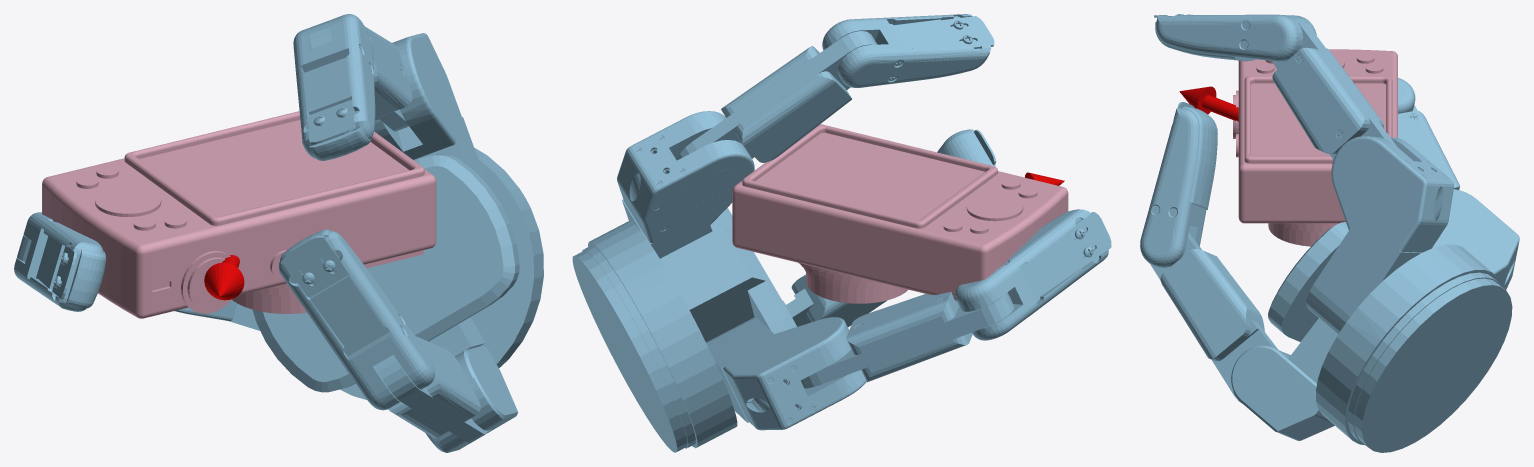
3 views of the same model, side by side, from view 1: azimuth 30°, elevation 25°; view 2: azimuth 150°, elevation 25°; view 3: azimuth 270°, elevation 25° (orthographic). The views are drawn at different scales.
Parts seen in each view (by area): view 1: world, camera.stl; view 2: world, camera.stl; view 3: world, camera.stl.
Part boxes in pixels (x1=…): world: x1=14, y1=14, x2=543, y2=452; camera.stl: x1=42, y1=111, x2=436, y2=318; world: x1=572, y1=14, x2=1111, y2=452; camera.stl: x1=732, y1=124, x2=1068, y2=303; world: x1=1140, y1=14, x2=1519, y2=452; camera.stl: x1=1233, y1=49, x2=1397, y2=246.
Bounding box in the file's own units: 0.2073 × 0.1692 × 0.1542.
